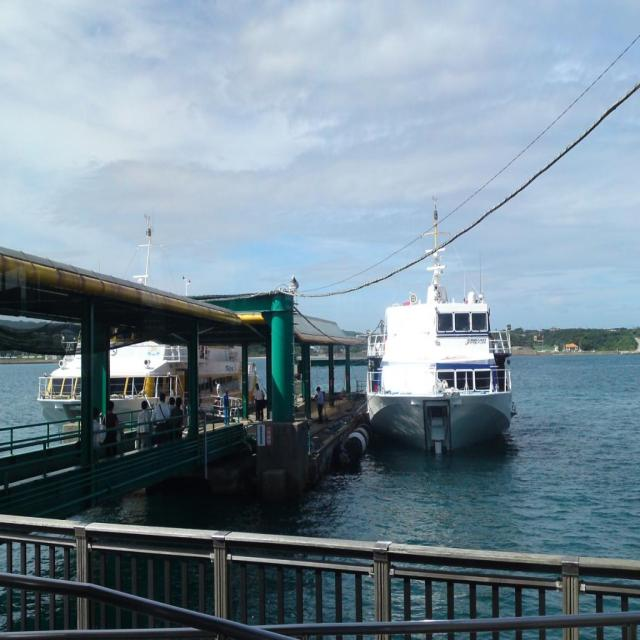cargoship: (29, 247, 253, 428), (367, 211, 516, 452)
